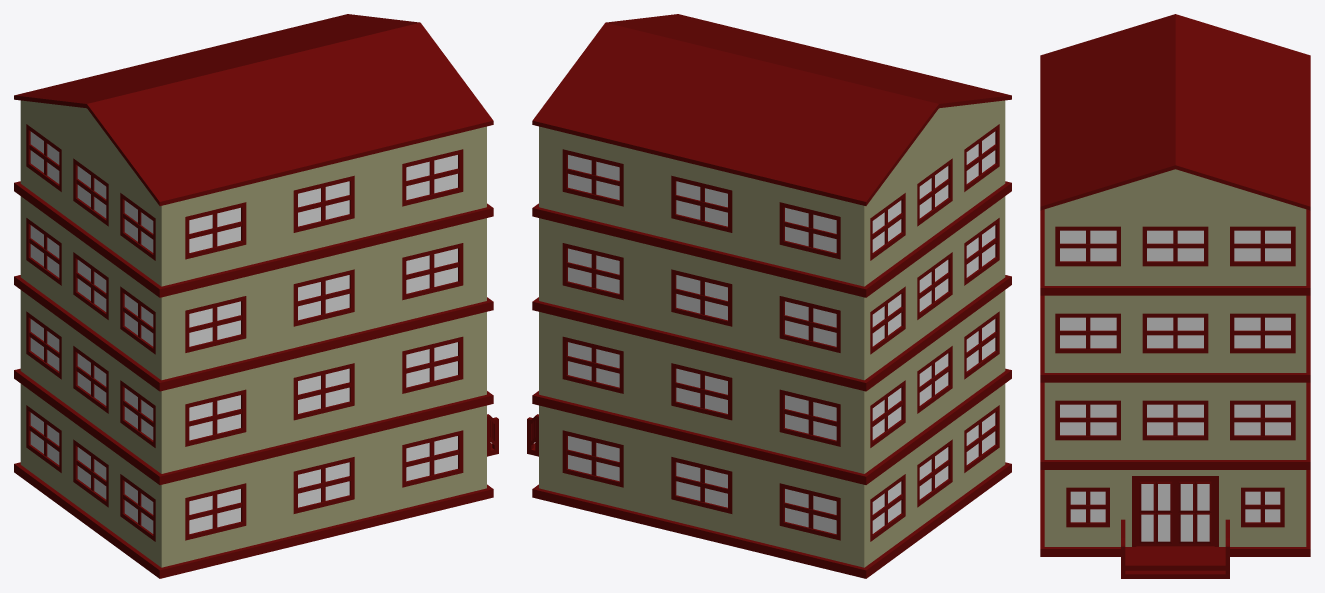
Rendered from medium building 8.fbx.
3 renders of one model, left to right at view 1: azimuth 30°, elevation 25°; view 2: azimuth 150°, elevation 25°; view 3: azimuth 270°, elevation 25°, orthographic. The views are drawn at different scales.
Parts seen in each view (by area): view 1: building_001; view 2: building_001; view 3: building_001.
Boxes of the visible parts, x1,y1,x2,y2 form: building_001: [14, 14, 498, 578]; building_001: [527, 14, 1011, 578]; building_001: [1040, 14, 1310, 578].
Size of the model in its own units: 940 by 990 by 620.
